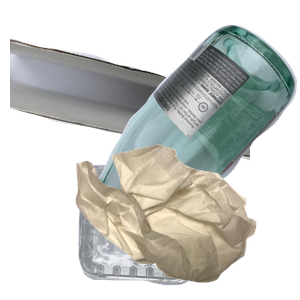cardboard: (10, 35, 250, 188)
glass: (86, 22, 300, 202)
plastic: (76, 162, 264, 300)
trash: (73, 142, 300, 300)
